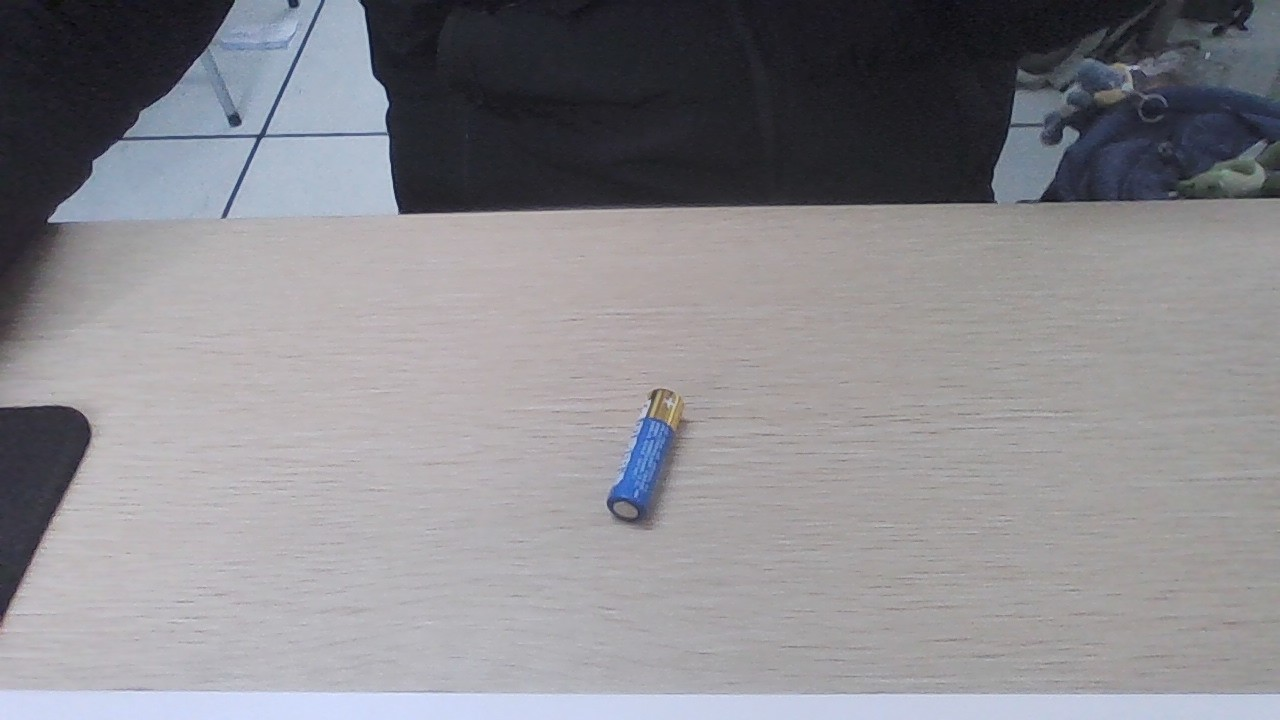YH-battery: (600, 388, 680, 522)
